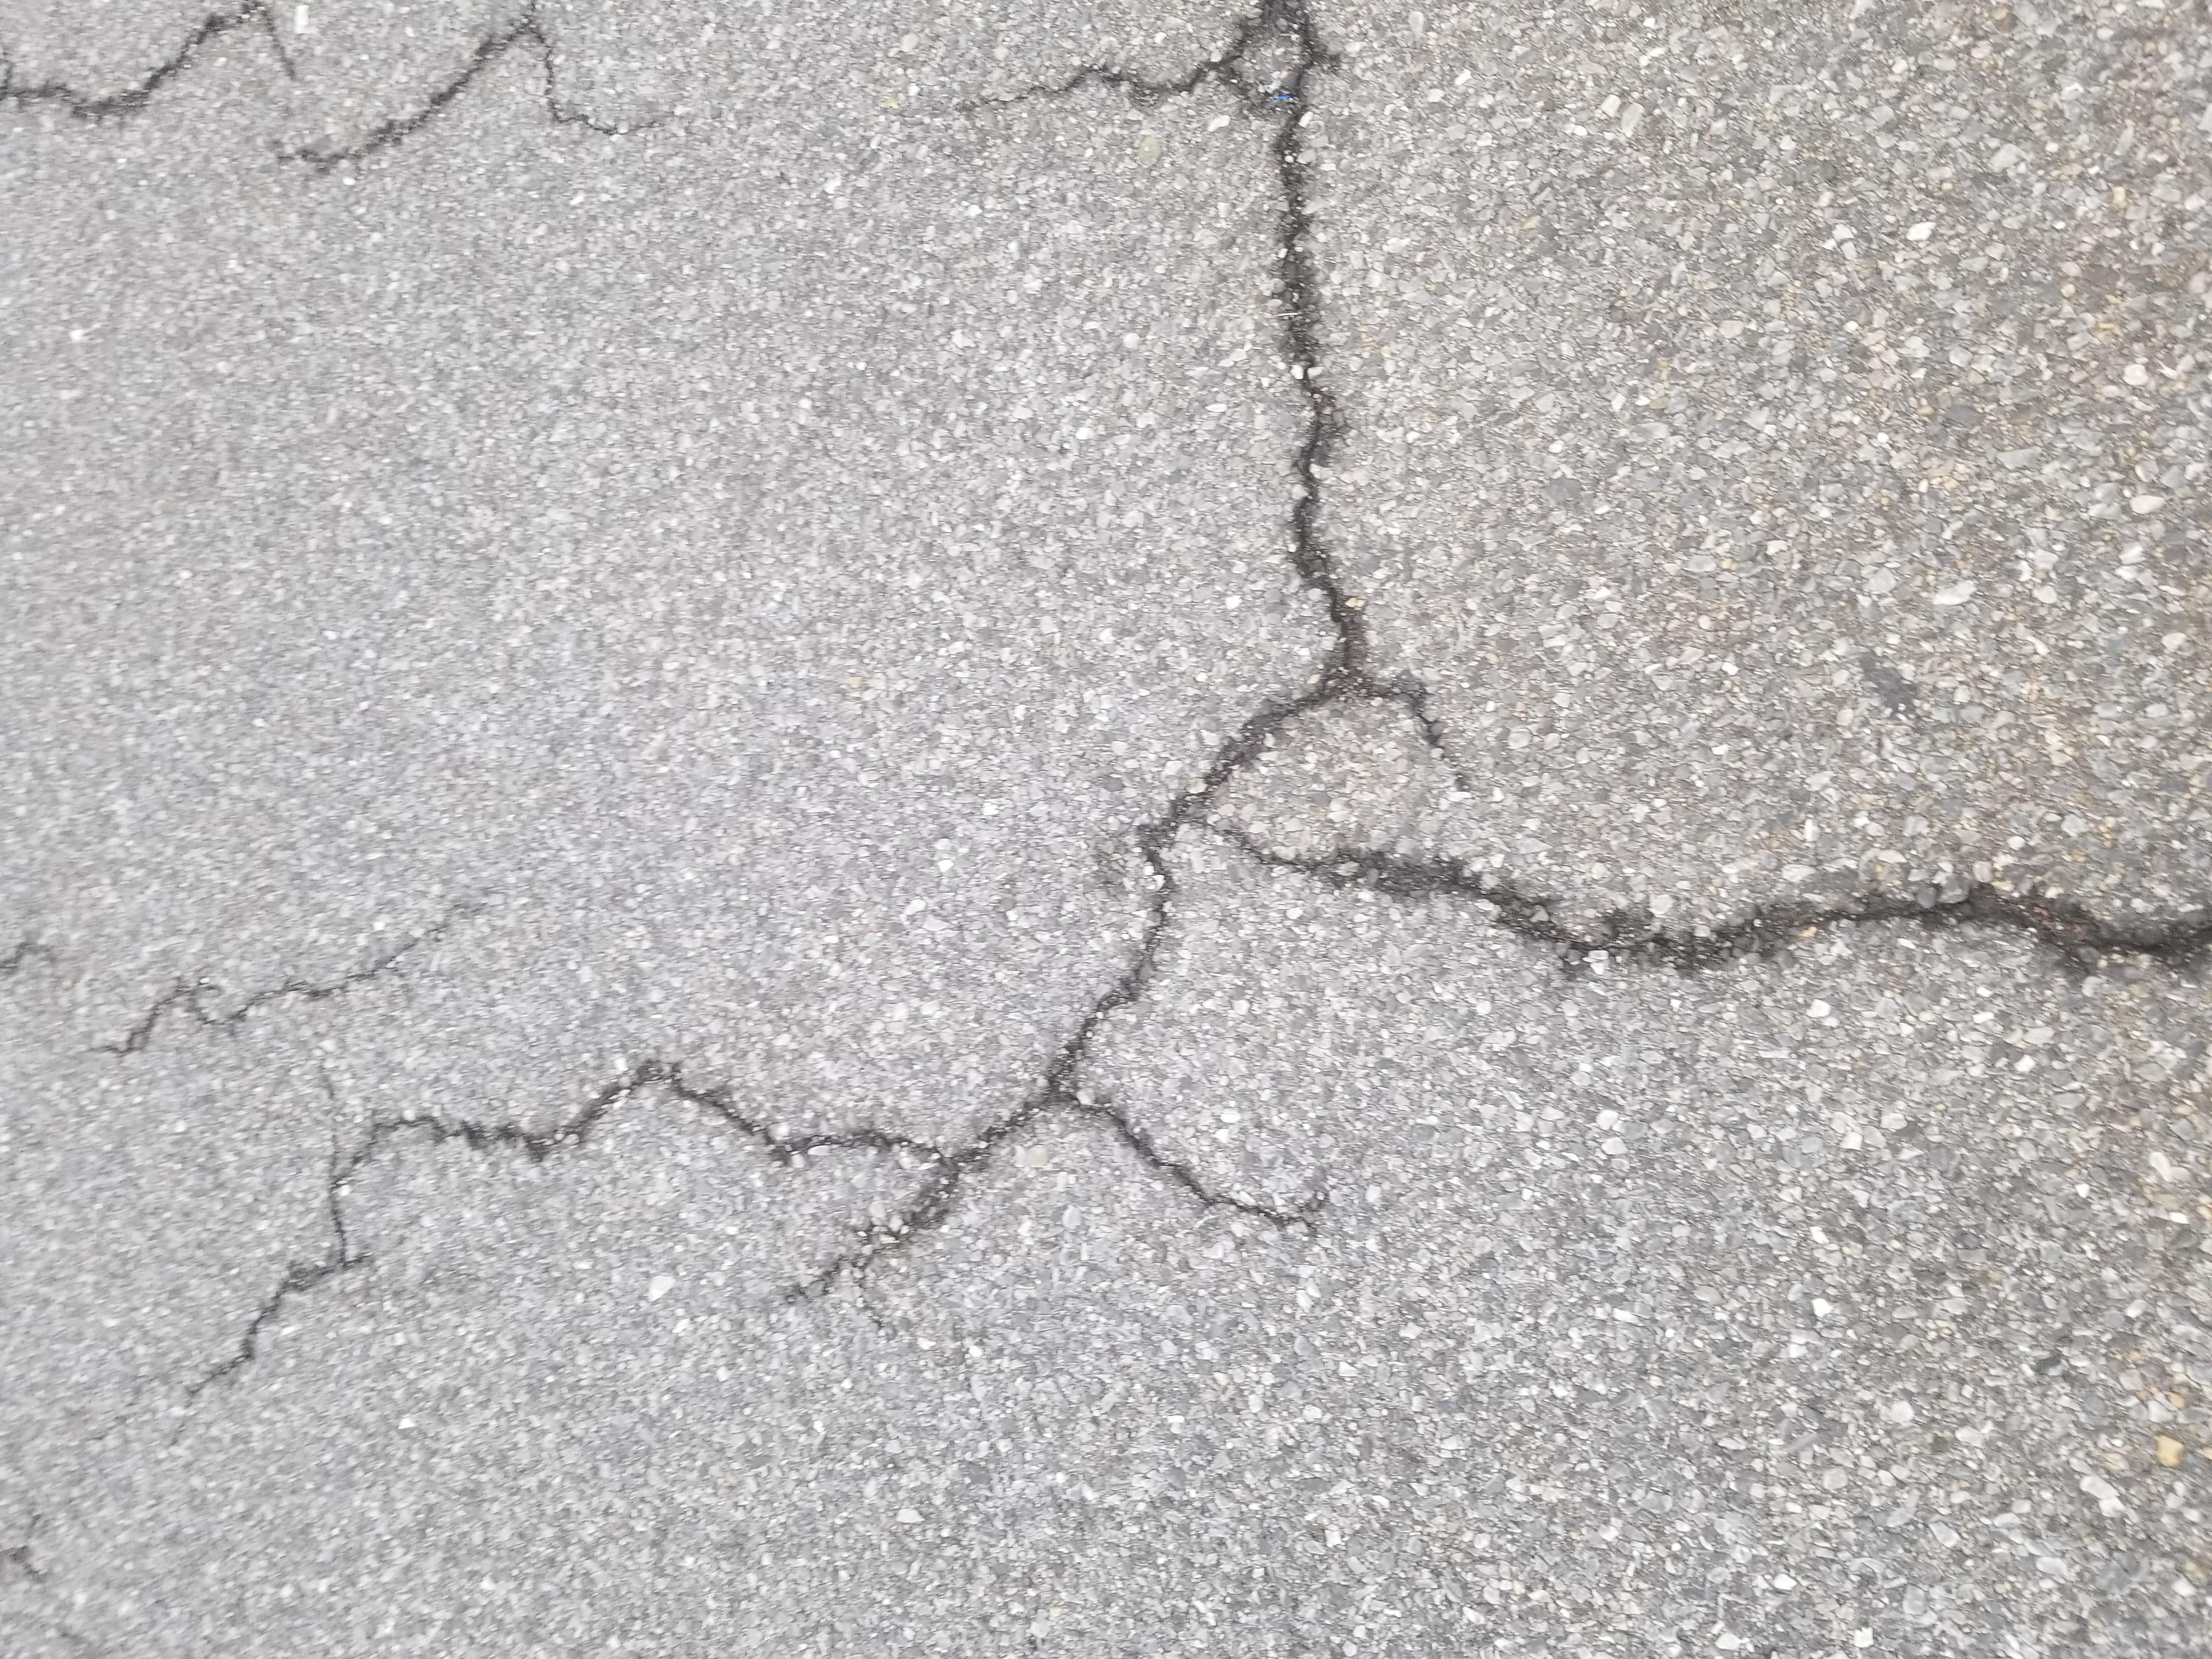crack: (300, 115, 838, 999), (801, 887, 1186, 1659), (1101, 849, 2212, 1077), (1932, 206, 2212, 469), (801, 66, 1010, 376), (2031, 708, 2210, 985), (2022, 0, 2212, 207)
